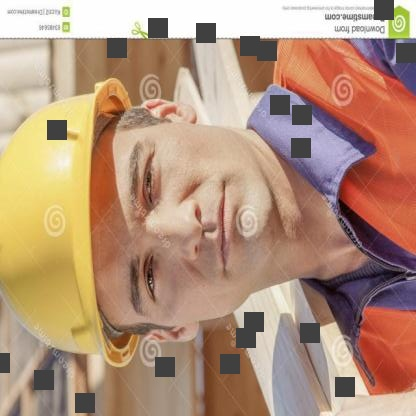yellow: (2, 70, 145, 370)
